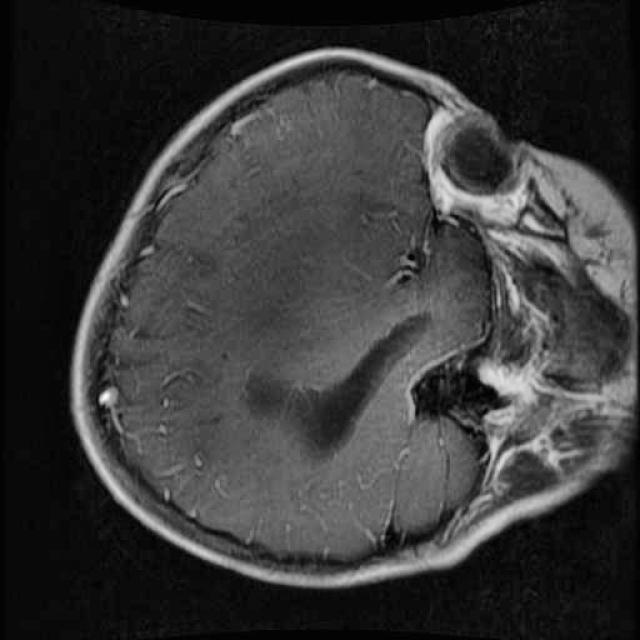Non-Tumor: (220, 288, 448, 480)
